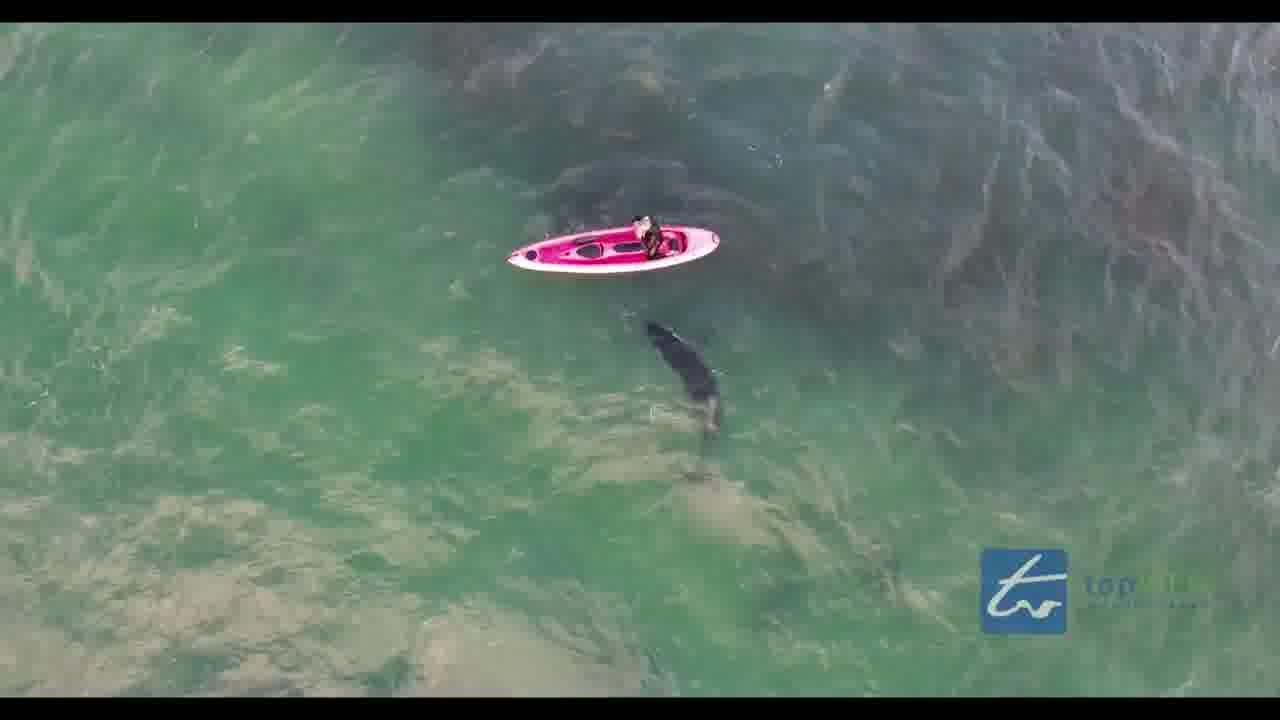swimmer: (623, 220, 662, 249)
